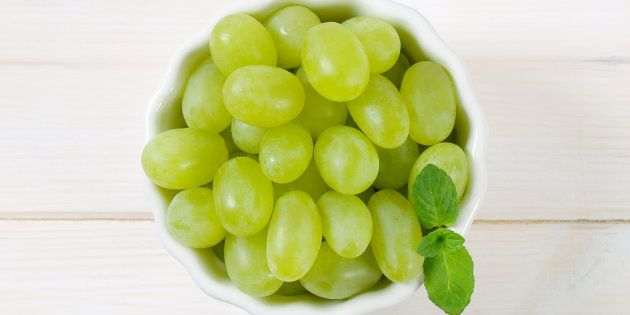Green grapes: (131, 1, 487, 315)
